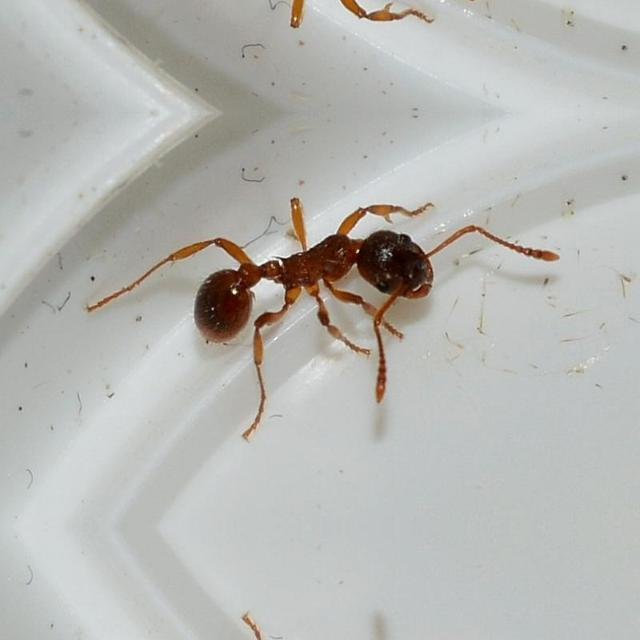Myrmica: (139, 170, 503, 380), (139, 0, 503, 52)
